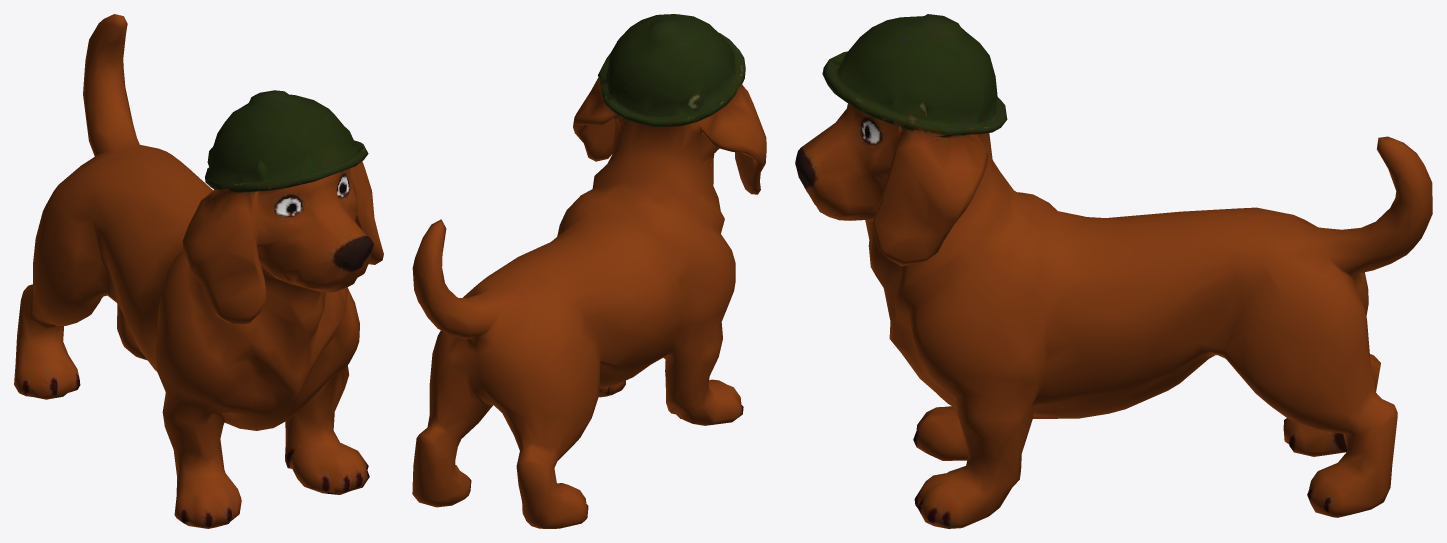
Rendered from detail_1_lo2.glb.
3 renders of one model, left to right at view 1: azimuth 30°, elevation 25°; view 2: azimuth 150°, elevation 25°; view 3: azimuth 270°, elevation 25°, orthographic. The views are drawn at different scales.
Visible parts, largest first — view 1: Mesh_0.001; view 2: Mesh_0.001; view 3: Mesh_0.001.
Boxes of the visible parts, <box> form: Mesh_0.001: <box>14,14,383,528</box>; Mesh_0.001: <box>412,14,766,528</box>; Mesh_0.001: <box>795,14,1432,528</box>.
Size of the model in its own units: 0.3986 by 0.8049 by 1.01.
1 material, 1 textured.
